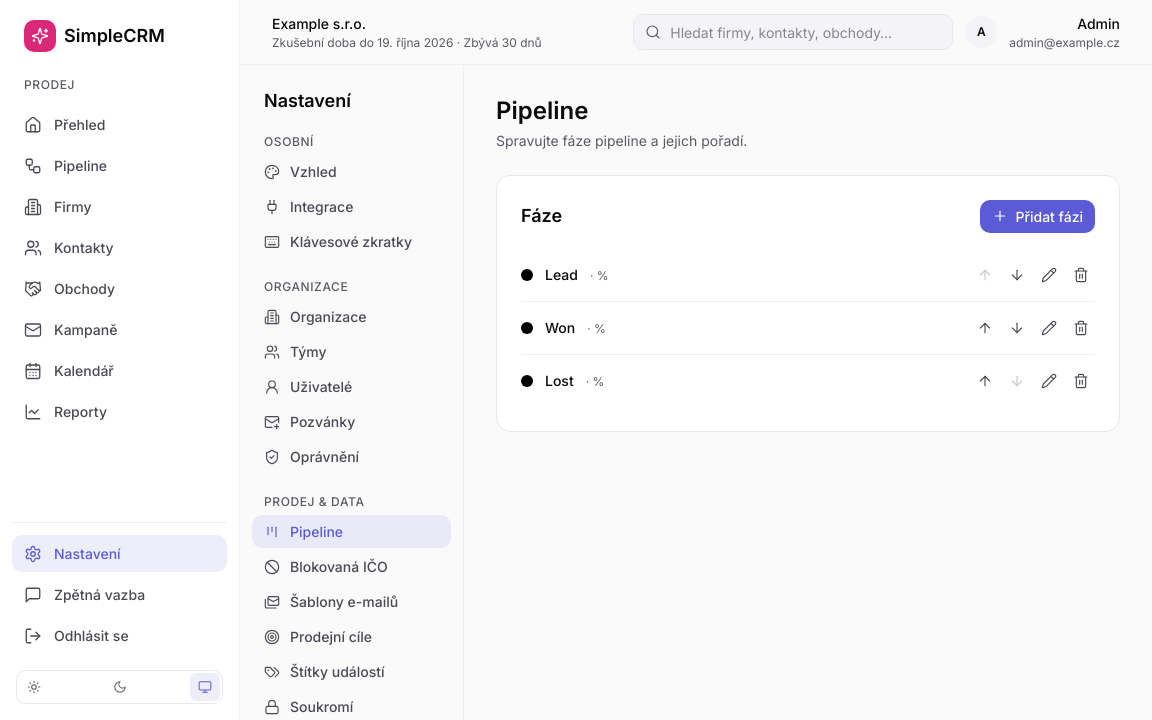
Ownership-window setting › renders the current org's ownership_window_days as the input value
Click the link "Oprávnění": (312, 457) [264, 448, 359, 465]
(page scrolled)
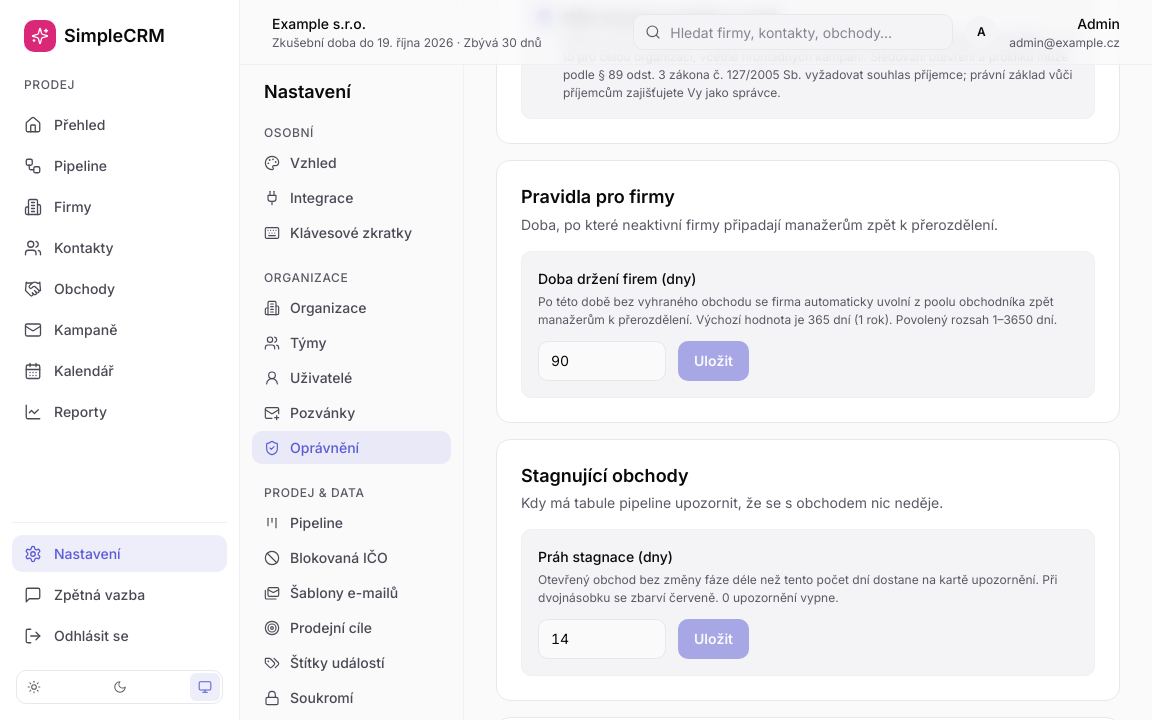
expect the number field labelled "Doba držení firem (dny)" holds "90": met, box [538, 341, 666, 381]
